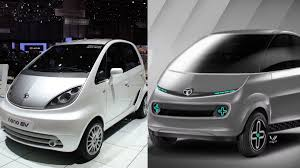Nano: (5, 38, 146, 155)
